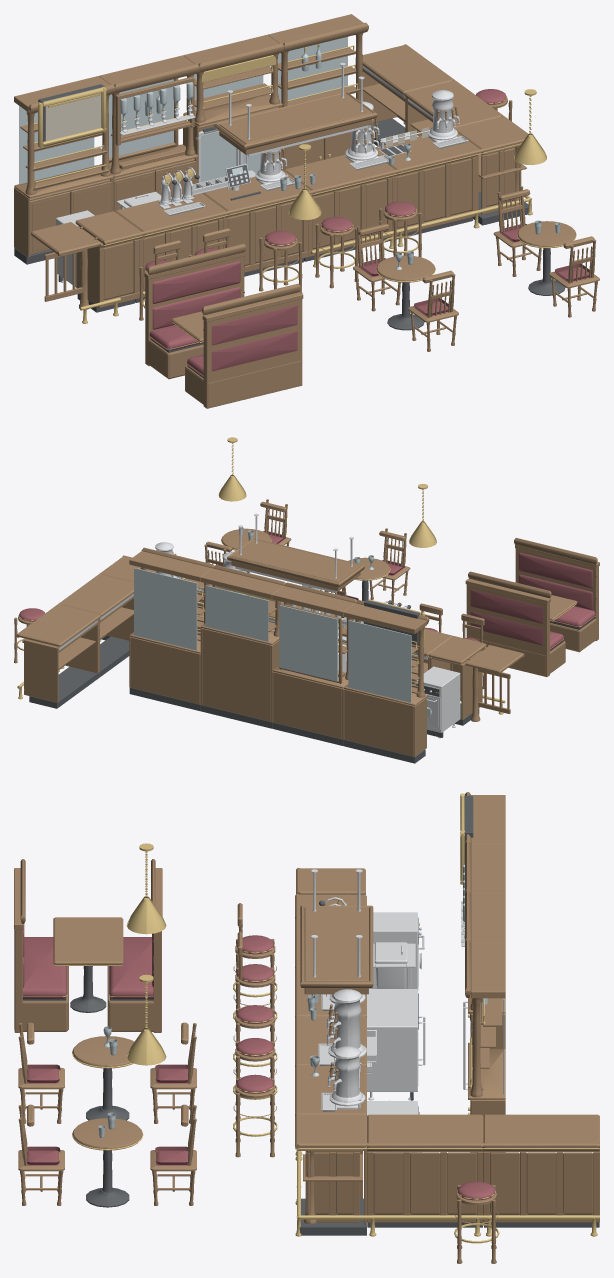
The model's file is pub-bar-room.glb.
3 views of the same model, one above another, from view 1: azimuth 30°, elevation 25°; view 2: azimuth 150°, elevation 25°; view 3: azimuth 270°, elevation 25° (orthographic). The views are drawn at different scales.
Visible parts, largest first — view 1: 043-pub-booth-4/0, 043-pub-booth-4/2, 004-bar-waiter-station/1, 003-bar-counter-module/1, 008-back-bar-bottle-steps/1, 010-back-bar-fridge-bay/1, 025-bar-canopy-glass-rack/2, 002-bar-till-position/1, 000-bar-counter-end-flap/1, 009-back-bar-mirrored-bay/1, 001-bar-counter-module/1, 011-back-bar-bottle-steps/1 (+44 smaller); view 2: 010-back-bar-fridge-bay/1, 043-pub-booth-4/0, 008-back-bar-bottle-steps/1, 009-back-bar-mirrored-bay/1, 011-back-bar-bottle-steps/1, 043-pub-booth-4/2, 007-bar-counter-module/1, 011-back-bar-bottle-steps/7, 008-back-bar-bottle-steps/7, 025-bar-canopy-glass-rack/2, 009-back-bar-mirrored-bay/7, 006-bar-counter-module/1 (+21 smaller); view 3: 007-bar-counter-module/1, 006-bar-counter-module/1, 043-pub-booth-4/0, 005-bar-counter-corner/1, 025-bar-canopy-glass-rack/2, 011-back-bar-bottle-steps/1, 016-underbar-bottle-fridge/0, 043-pub-booth-4/2, 010-back-bar-fridge-bay/1, 021-tap-font-8/0, 004-bar-waiter-station/1, 009-back-bar-mirrored-bay/1 (+35 smaller).
Boxes of the visible parts, box(x1,y1,x2,y2) form: 043-pub-booth-4/0: box(144, 243, 303, 408); 043-pub-booth-4/2: box(149, 261, 297, 376); 004-bar-waiter-station/1: box(375, 133, 482, 235); 003-bar-counter-module/1: box(284, 154, 397, 256); 008-back-bar-bottle-steps/1: box(14, 76, 115, 257); 010-back-bar-fridge-bay/1: box(183, 35, 284, 183); 025-bar-canopy-glass-rack/2: box(214, 91, 377, 154); 002-bar-till-position/1: box(202, 170, 313, 272); 000-bar-counter-end-flap/1: box(75, 211, 144, 309); 009-back-bar-mirrored-bay/1: box(99, 55, 199, 211); 001-bar-counter-module/1: box(115, 193, 228, 298); 011-back-bar-bottle-steps/1: box(268, 14, 368, 169); 010-back-bar-fridge-bay/1: box(200, 565, 285, 721); 043-pub-booth-4/0: box(465, 537, 599, 676); 008-back-bar-bottle-steps/1: box(343, 600, 429, 756); 009-back-bar-mirrored-bay/1: box(272, 582, 357, 739); 011-back-bar-bottle-steps/1: box(129, 547, 214, 704); 043-pub-booth-4/2: box(470, 552, 596, 650); 007-bar-counter-module/1: box(16, 604, 100, 702); 011-back-bar-bottle-steps/7: box(134, 568, 197, 650); 008-back-bar-bottle-steps/7: box(348, 620, 411, 702); 025-bar-canopy-glass-rack/2: box(227, 538, 364, 591); 009-back-bar-mirrored-bay/7: box(279, 605, 337, 681); 006-bar-counter-module/1: box(58, 574, 133, 672); 007-bar-counter-module/1: box(483, 1114, 599, 1222); 006-bar-counter-module/1: box(367, 1114, 483, 1222); 043-pub-booth-4/0: box(14, 859, 162, 1032); 005-bar-counter-corner/1: box(295, 1114, 366, 1224); 025-bar-canopy-glass-rack/2: box(300, 905, 373, 994); 011-back-bar-bottle-steps/1: box(465, 939, 505, 1152); 016-underbar-bottle-fridge/0: box(367, 989, 417, 1100); 043-pub-booth-4/2: box(14, 924, 154, 998); 010-back-bar-fridge-bay/1: box(465, 890, 505, 1049); 021-tap-font-8/0: box(318, 989, 366, 1065); 004-bar-waiter-station/1: box(295, 1064, 366, 1115); 009-back-bar-mirrored-bay/1: box(465, 841, 505, 893).
Size of the model in its own units: 7.43 by 2.5 by 6.04.
